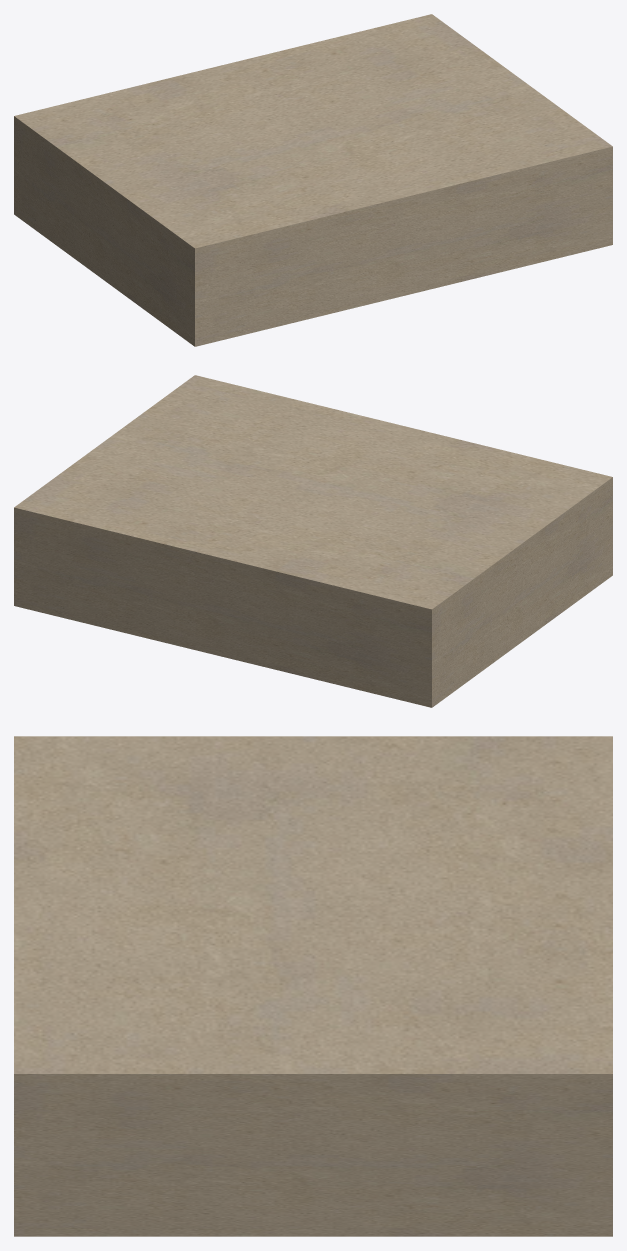
File: Entrance_Platform.fbx
The picture shows the model from 3 angles, top to bottom: view 1: azimuth 30°, elevation 25°; view 2: azimuth 150°, elevation 25°; view 3: azimuth 270°, elevation 25°; orthographic projection. The views are drawn at different scales.
Parts seen in each view (by area): view 1: Entrance_Platform; view 2: Entrance_Platform; view 3: Entrance_Platform.
Part boxes in pixels (<box>): Entrance_Platform: <box>14,14,612,346</box>; Entrance_Platform: <box>14,375,612,707</box>; Entrance_Platform: <box>14,736,612,1236</box>.
Size of the model in its own units: 2 by 0.45 by 1.5.
